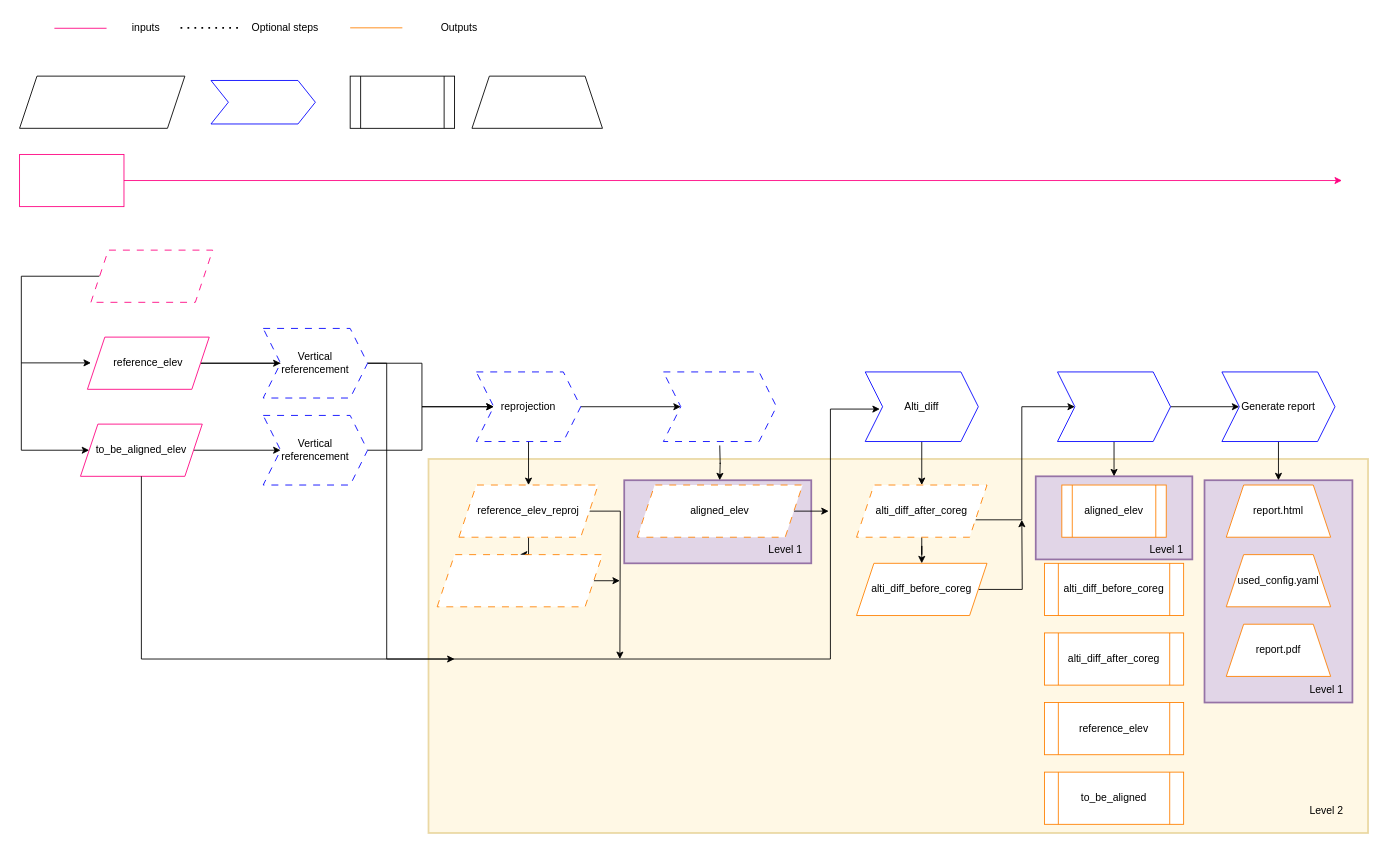
Image size: 1384x848. Some labels were removed from this diagram. Each missing label, with the box of its shape:
config.yaml: (19, 154, 124, 207)
Coregistration: (663, 371, 776, 442)
csv file: (349, 75, 455, 128)
mask: (90, 249, 213, 302)
Other outputs files: (471, 75, 602, 128)
raster files: (19, 75, 185, 128)
Statistics: (1057, 371, 1171, 442)
Step: (210, 80, 315, 124)
to_be_aligned_elev_reproj: (436, 554, 602, 607)
